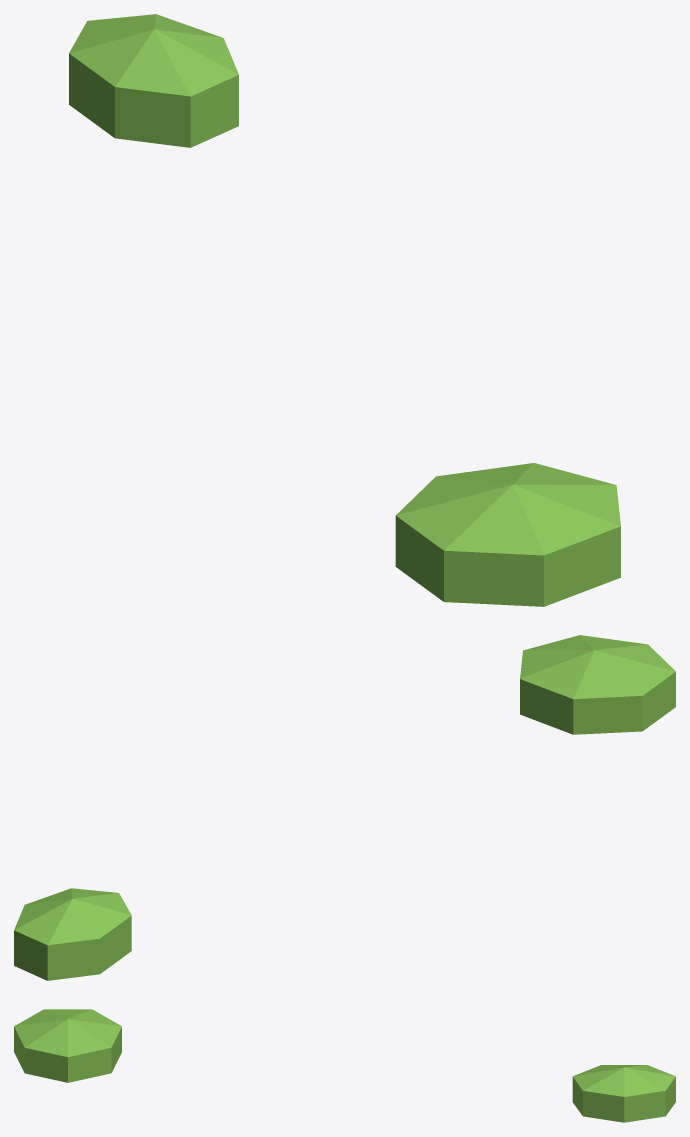
The model's file is fd_slime__2.glb.
3 views of the same model, one above another, from view 1: azimuth 30°, elevation 25°; view 2: azimuth 150°, elevation 25°; view 3: azimuth 270°, elevation 25° (orthographic). The views are drawn at different scales.
Parts seen in each view (by area): view 1: block_bead (×2); view 2: block_bead (×2); view 3: block_bead (×2).
Part boxes in pixels (x1,y1,x2,y2): block_bead (×2): [69, 14, 620, 606]; block_bead (×2): [14, 635, 675, 980]; block_bead (×2): [14, 1009, 675, 1122].
Size of what is drawn, in the model's own units: 0.0991 by 0.027 by 0.3154.
1 material, 1 textured.
